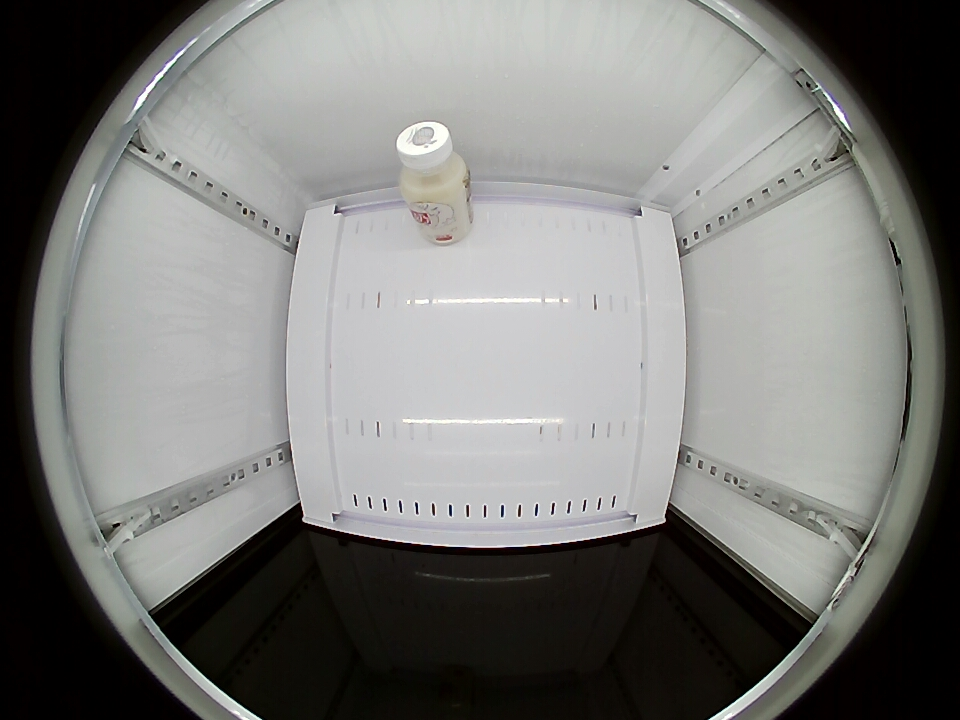weiweidounai: (396, 120, 472, 204)
